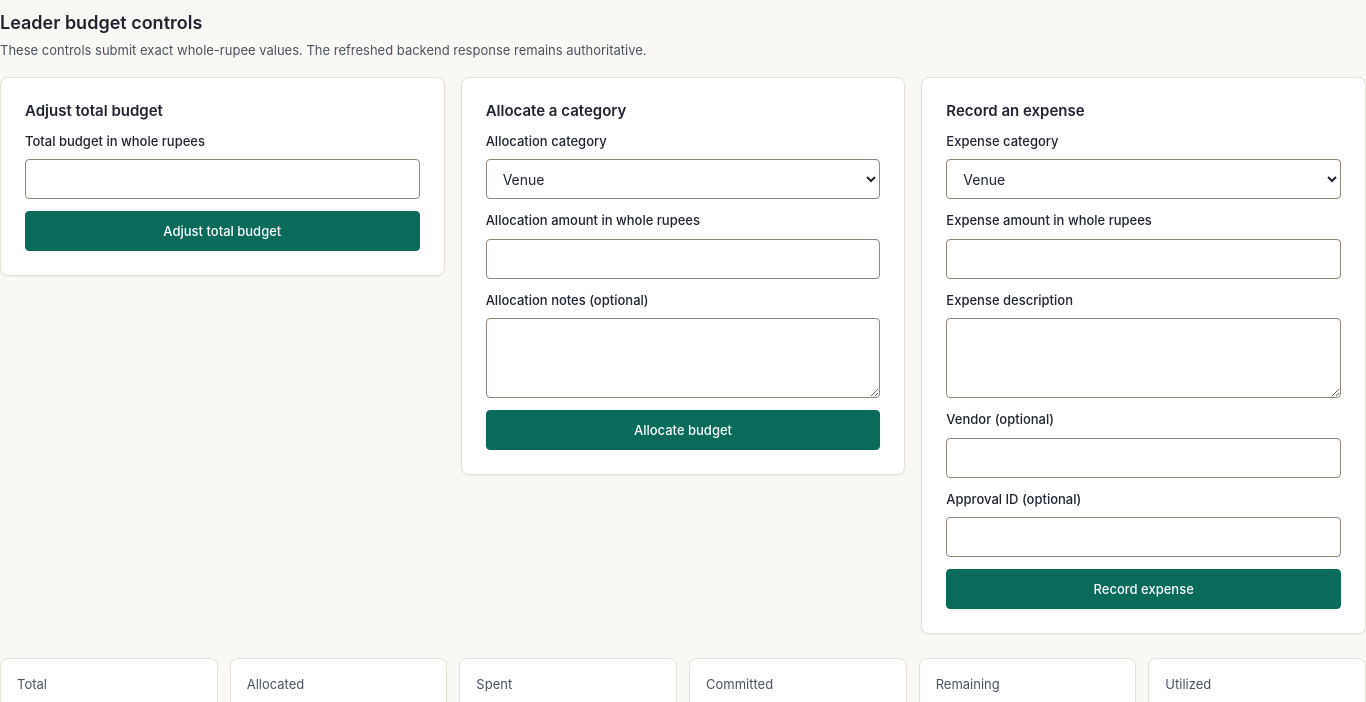
Budget leader controls › preserves useful input and displayed balances when a mutation fails
The image size is (1366, 702).
Type "5000" into the field labelled "Allocation amount in whole rupees" at coordinates (683, 259), box left=486, top=239, right=880, bottom=279
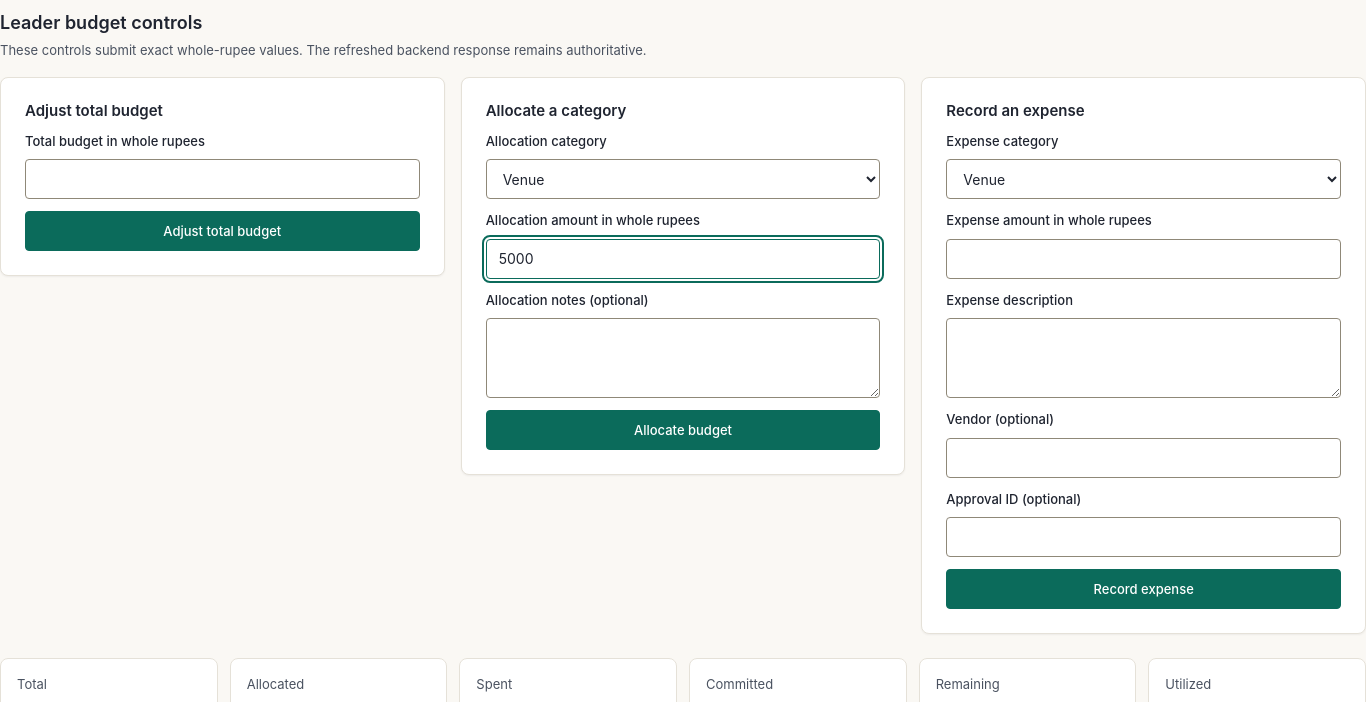
Type "Catering reserve" into the text box labelled "Allocation notes (optional)" at coordinates (683, 358), box left=486, top=318, right=880, bottom=398
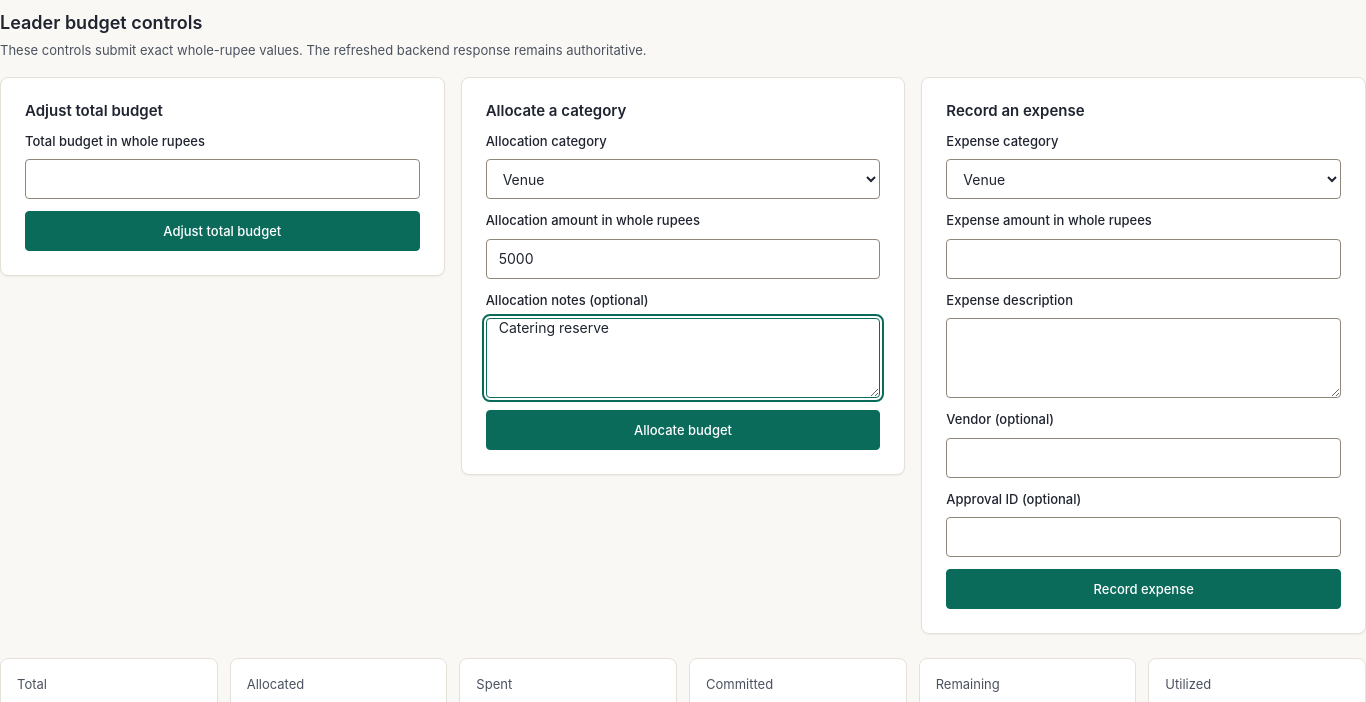
Click the button "Allocate budget" at coordinates (683, 430), box left=486, top=410, right=880, bottom=450
(page scrolled)
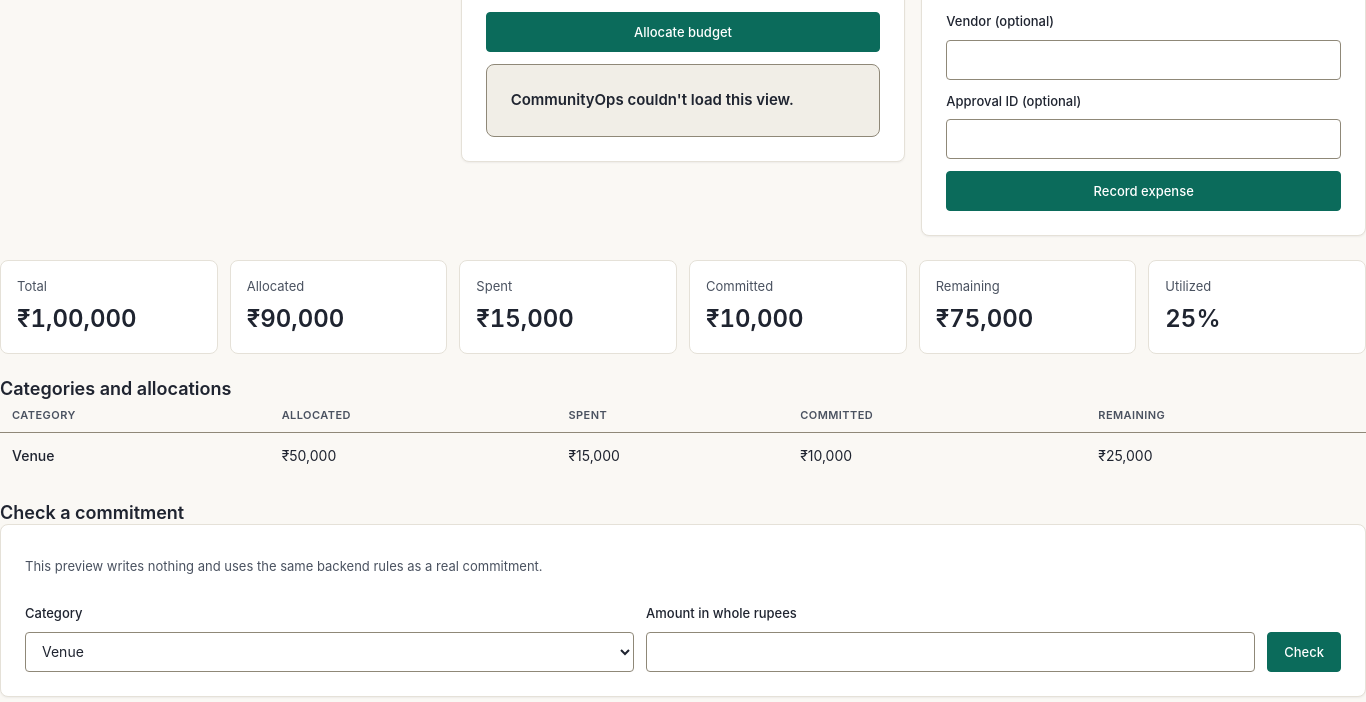
Expected: the text "₹75,000" is shown, left=936, top=304, right=1033, bottom=333
Expected: the text "CommunityOps couldn't load this view." is shown, left=511, top=89, right=794, bottom=112
